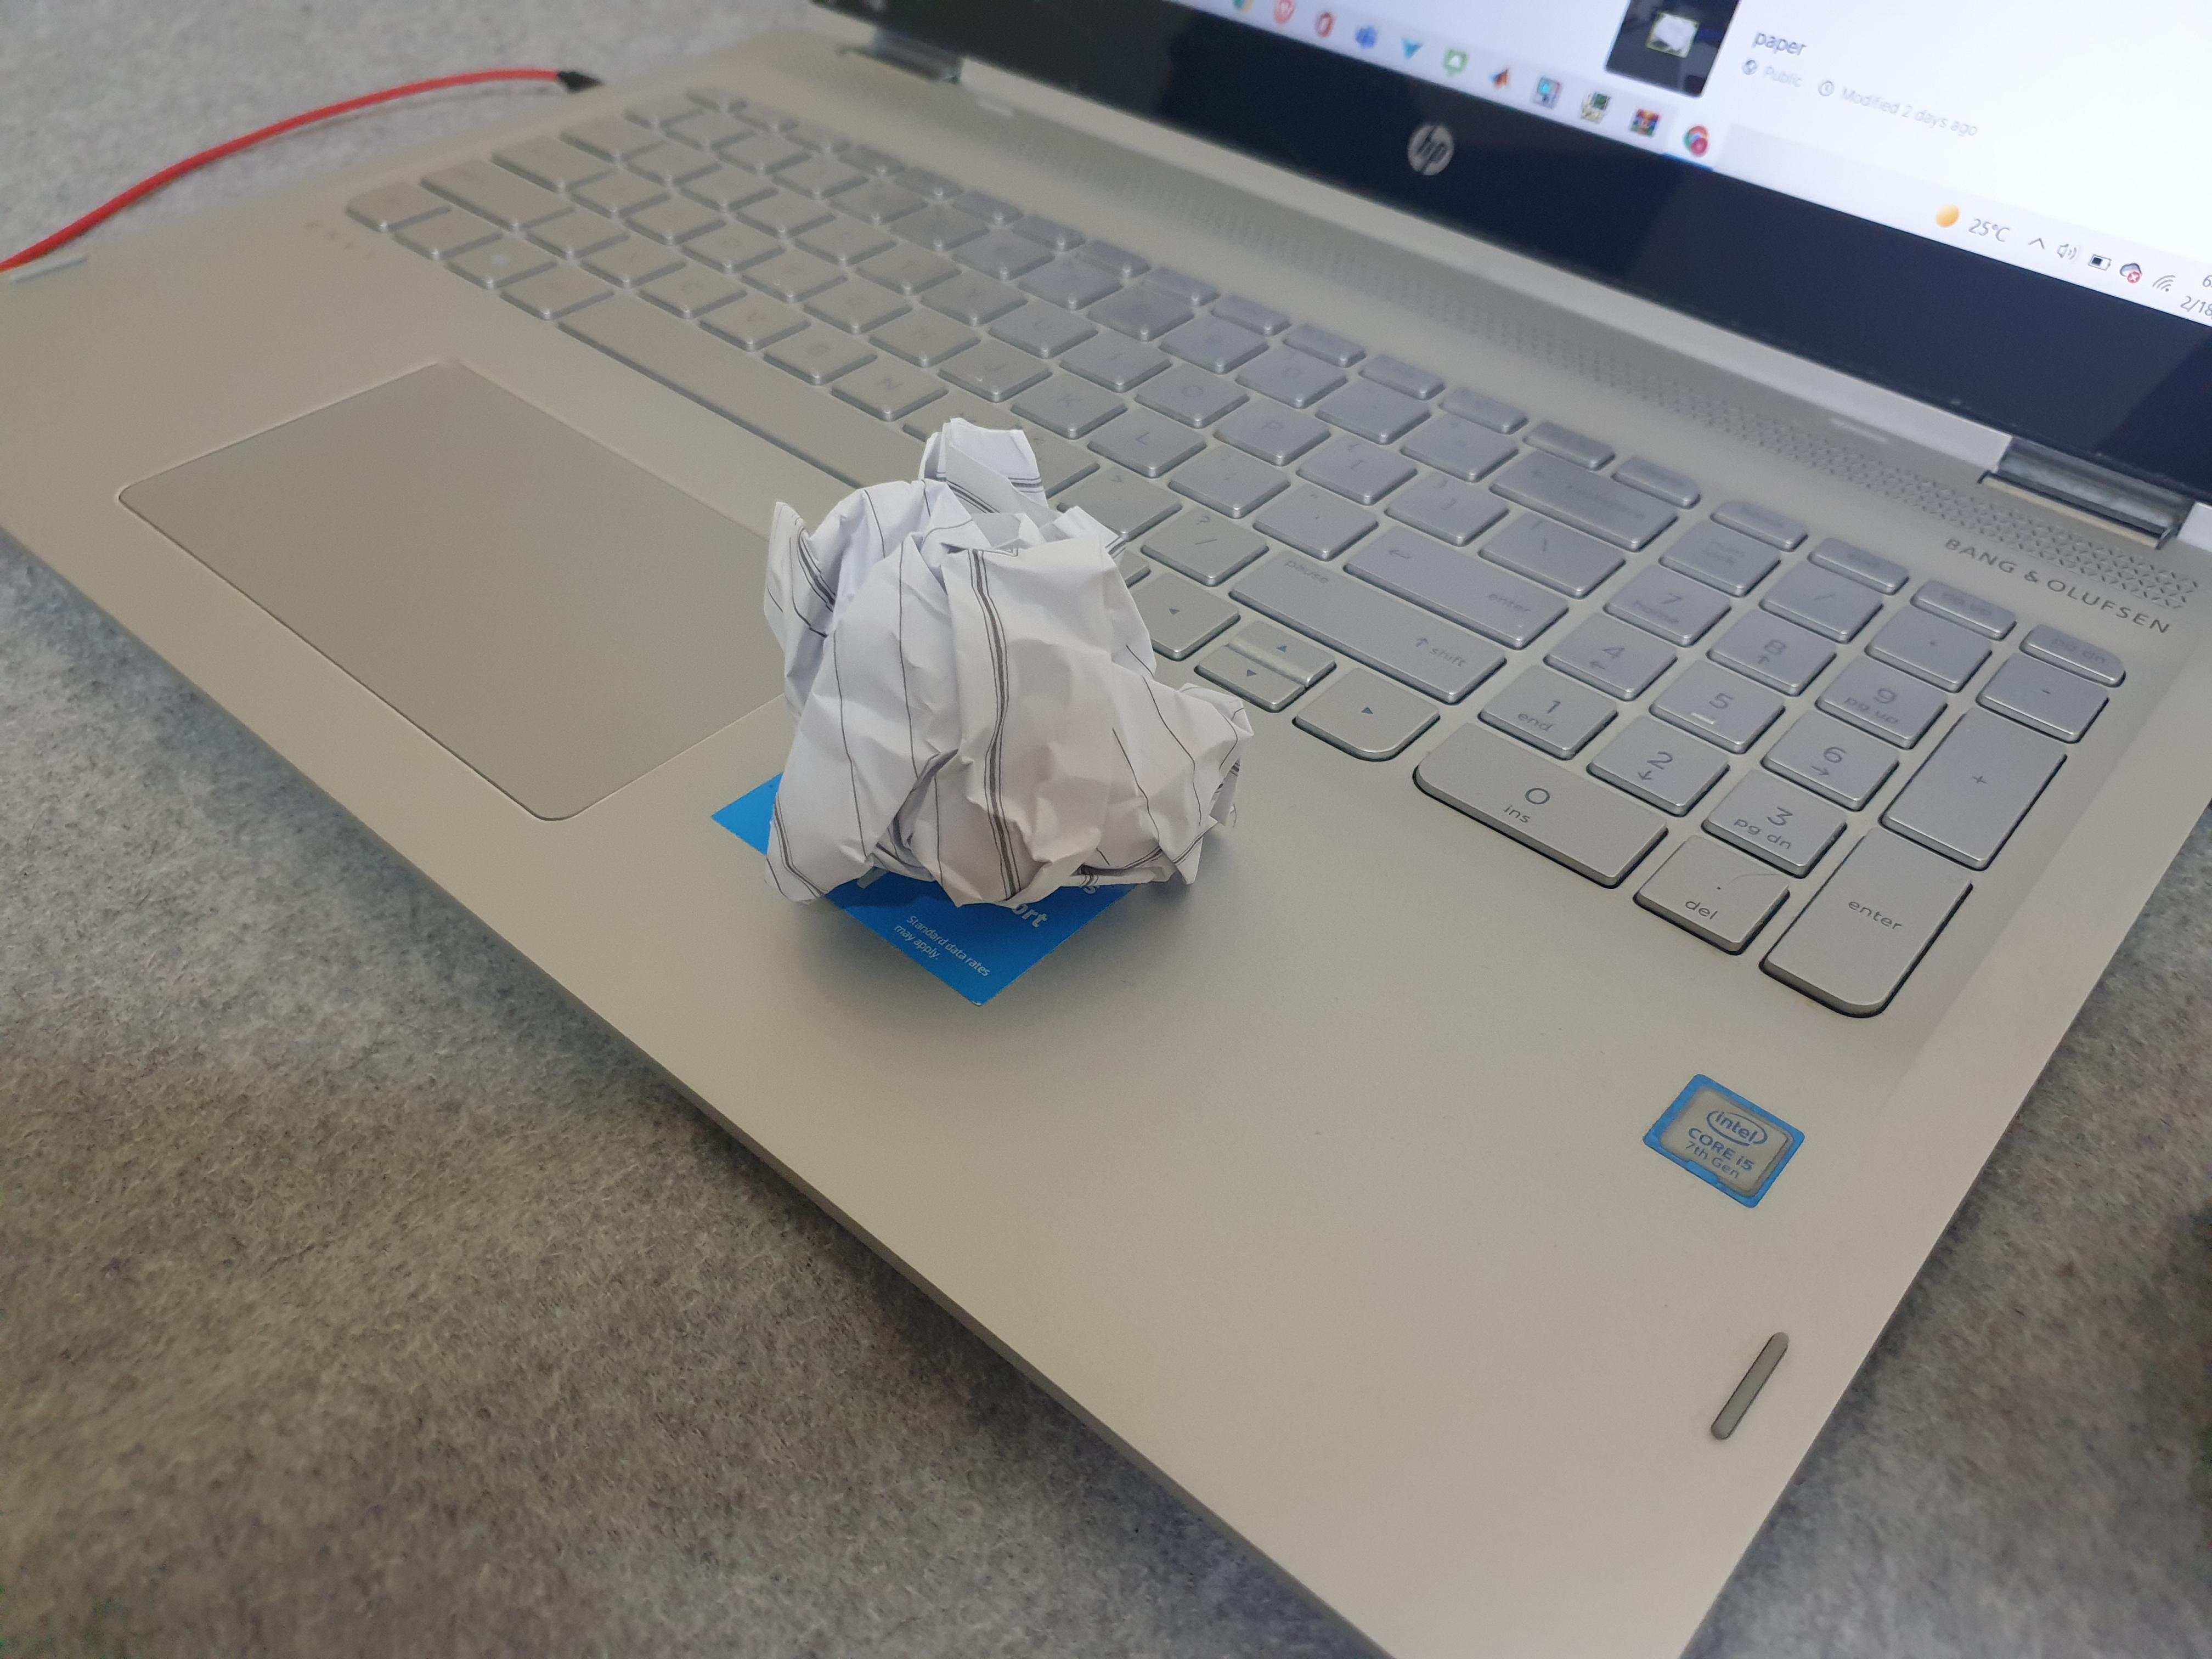Paper: (738, 396, 1271, 930)
